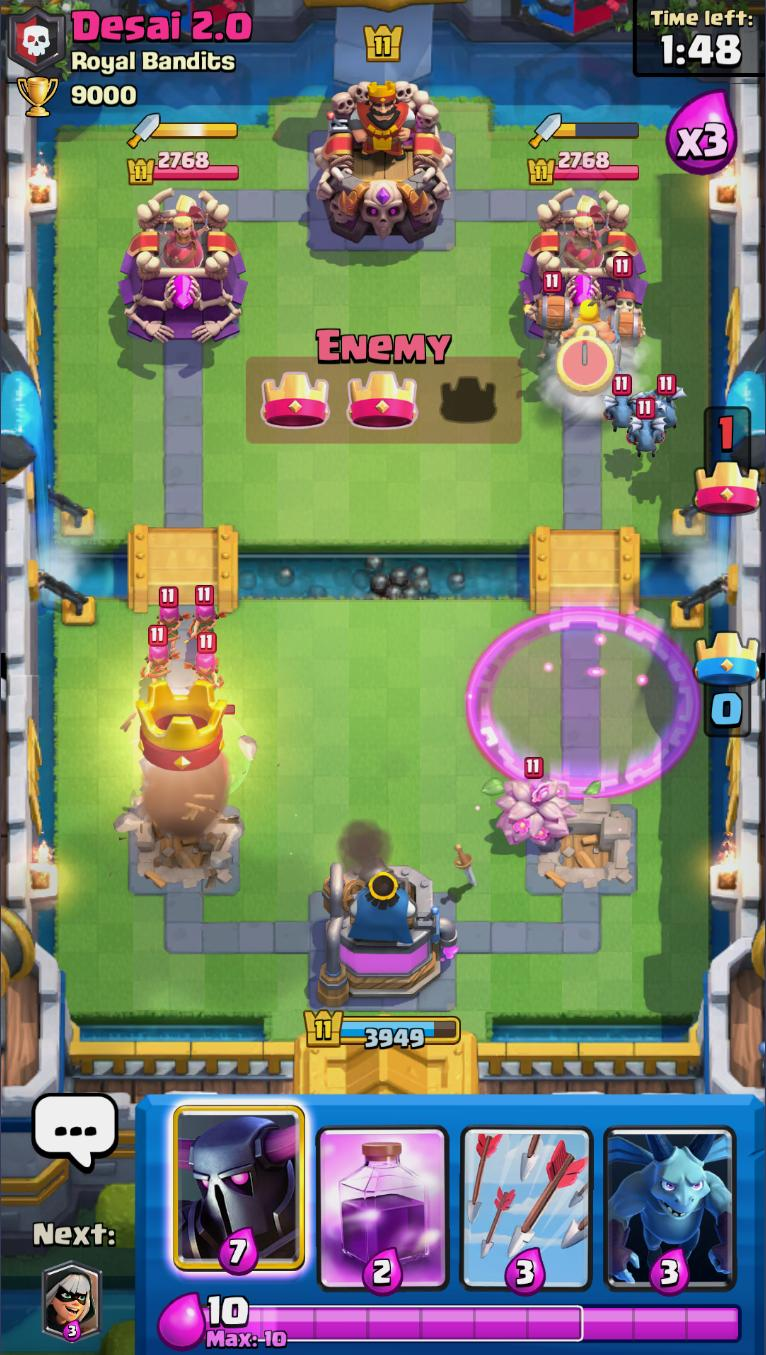Archer: (180, 584, 222, 651), (182, 632, 225, 695), (146, 586, 191, 644), (138, 624, 176, 691)
ArrowDeck: (455, 1096, 599, 1296)
BanditNext: (41, 1260, 103, 1344)
Bush: (492, 755, 580, 850)
Daggers: (526, 109, 641, 150), (126, 111, 239, 148)
Elixir: (204, 1295, 745, 1350)
EnemyTower: (516, 186, 650, 345), (118, 186, 247, 346)
KingTower: (311, 76, 455, 245)
Minion: (645, 373, 689, 436), (625, 398, 668, 456), (603, 374, 639, 438)
MinionsDeck: (596, 1096, 745, 1295)
MyBarbarian: (558, 299, 621, 344)
MyKingHP: (301, 1005, 463, 1051)
MyKingTower: (311, 860, 445, 1009)
MyPrincessTowerBrocken: (115, 770, 250, 898), (520, 794, 641, 900)
PekkaDeck: (165, 1096, 312, 1294)
Rage: (466, 609, 701, 800)
RageDeck: (310, 1096, 456, 1296)
TowerPrincessHP: (124, 149, 241, 186), (525, 149, 640, 185)
WallBreakers: (525, 271, 574, 356), (610, 256, 648, 345)
